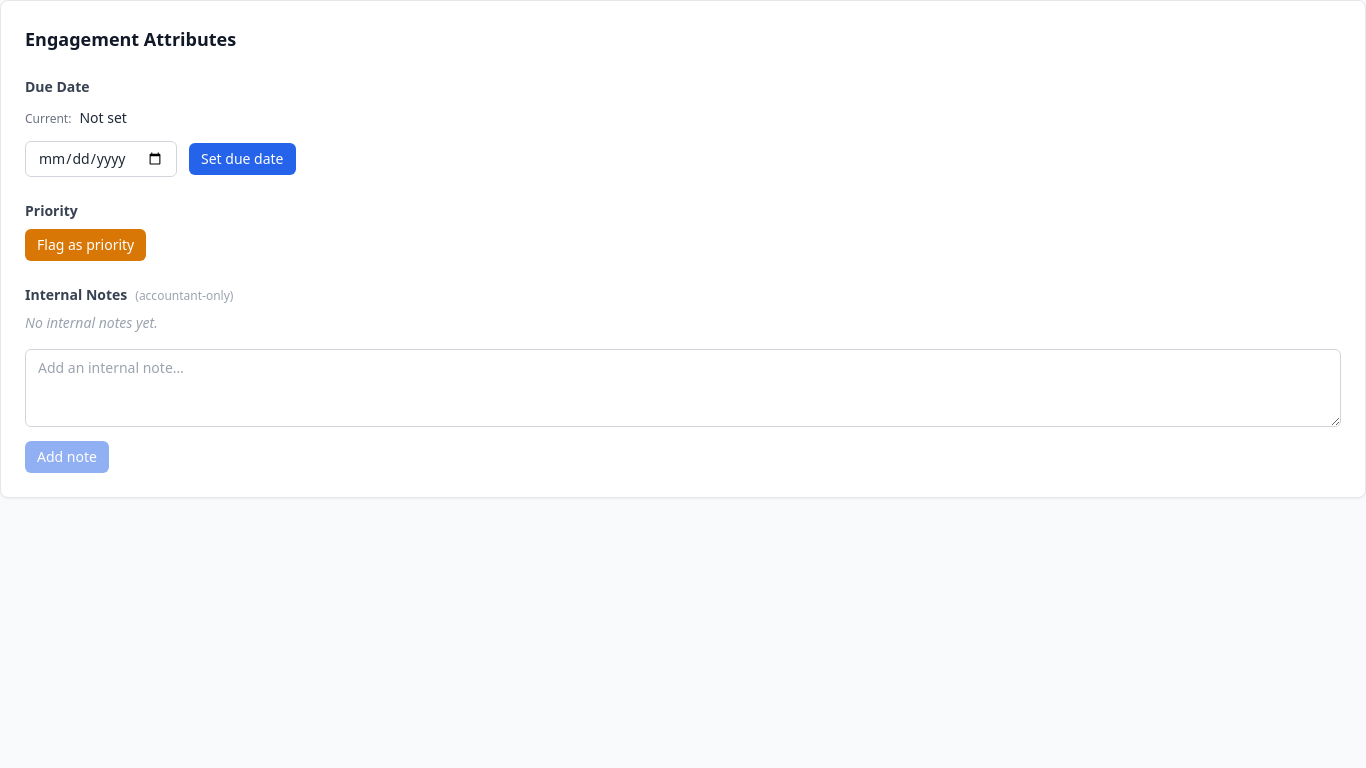
it: [AC-LIFE-007-01] [AC-LIFE-007-02] setDueDateAction wire-up › [AC-LIFE-007-01] shows error message when setDueDateAction fails
Type "2026-12-31" into the date field with test id "due-date-input" at [101, 159], box [25,141,177,177]
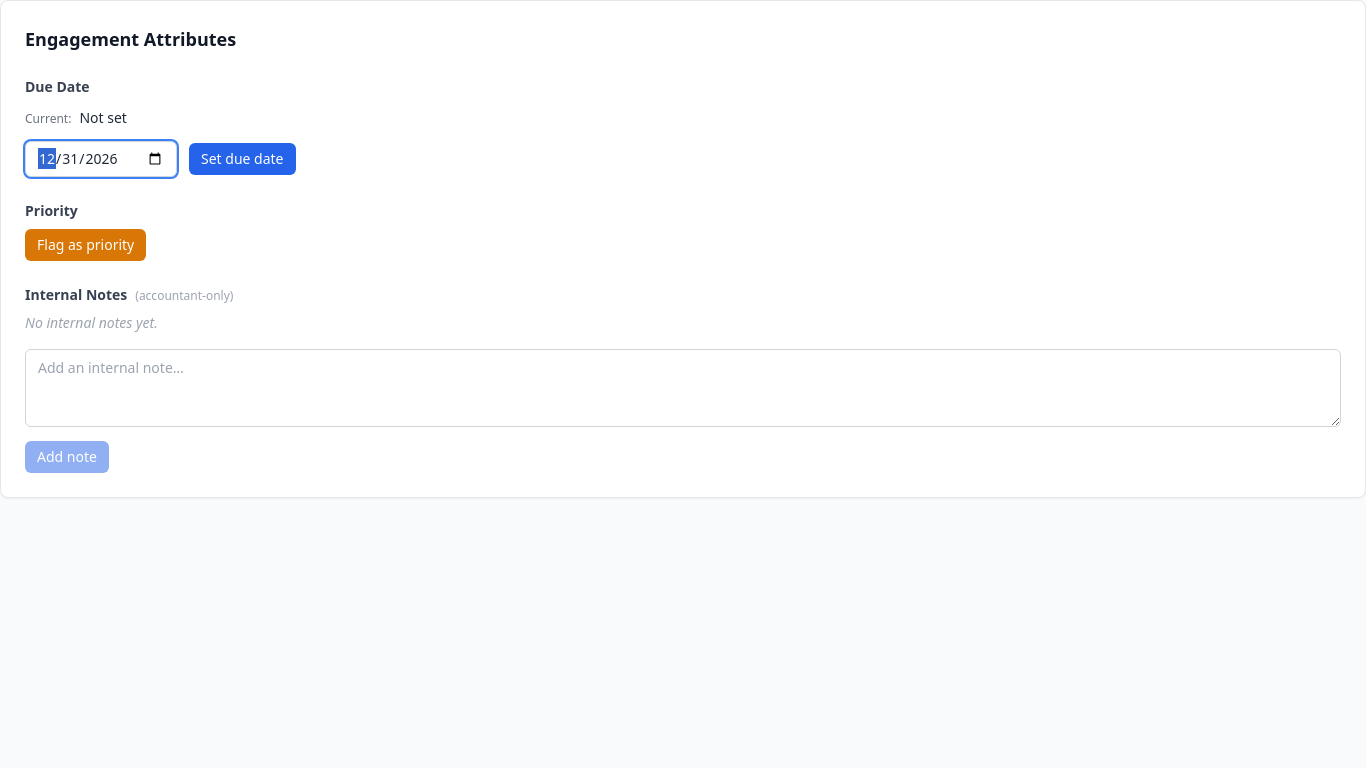
Click the button with test id "set-due-date-button" at [242, 159], box [189,143,296,175]
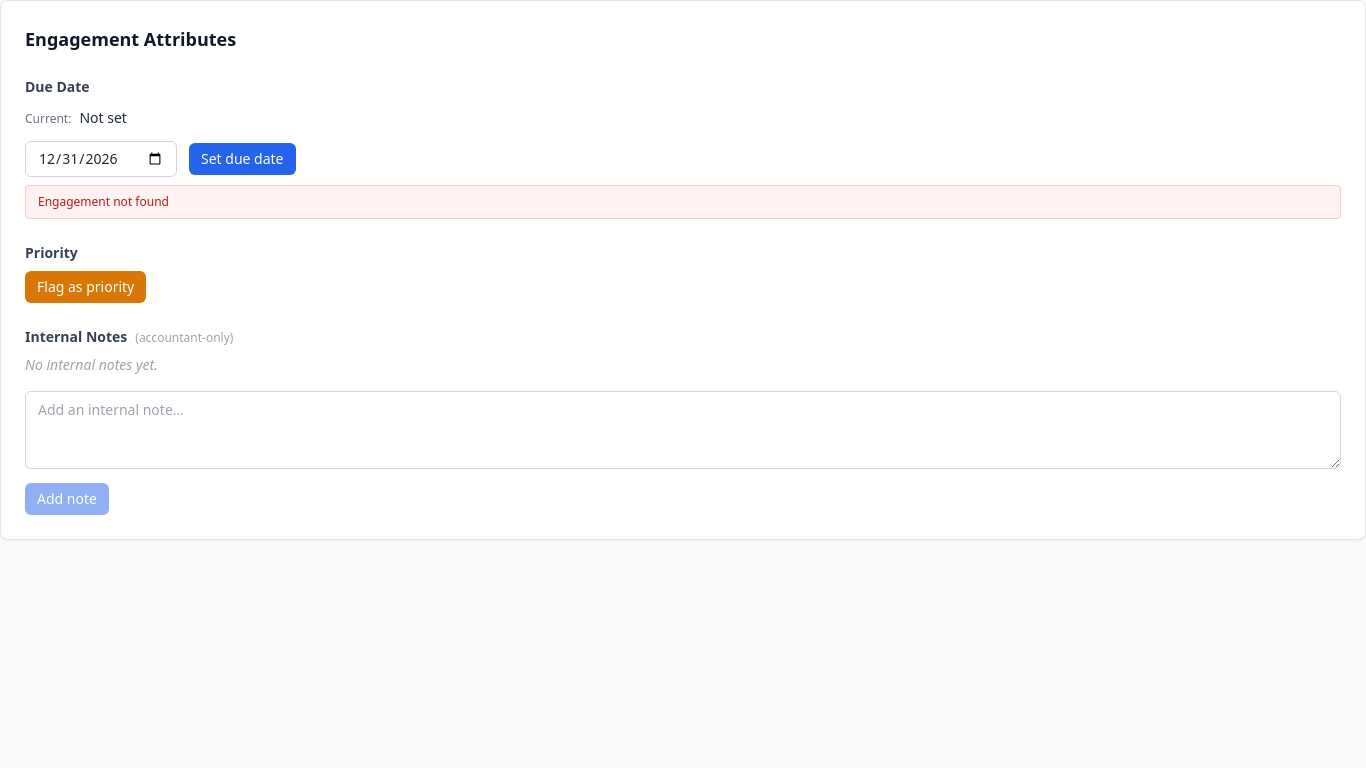
Expected: the message "Engagement not found" is shown, [25,185,1341,219]
Expected: the message with test id "attribute-action-status" reads "Engagement not found", [38,193,169,210]
